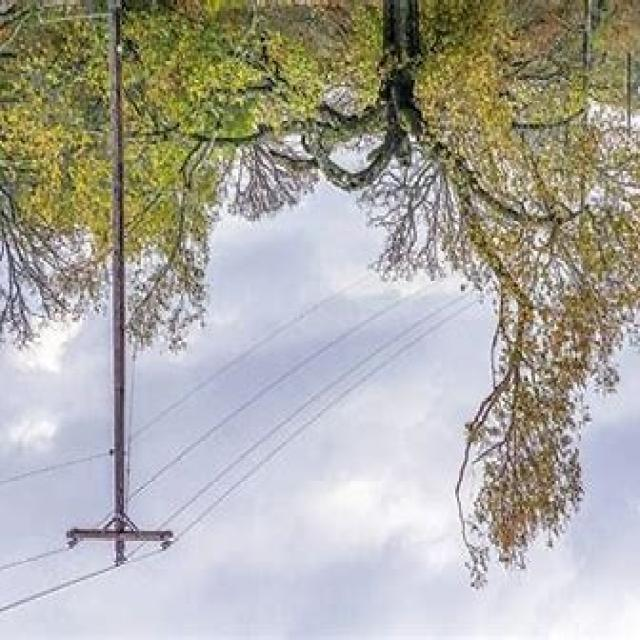utility poles: (68, 1, 182, 577)
